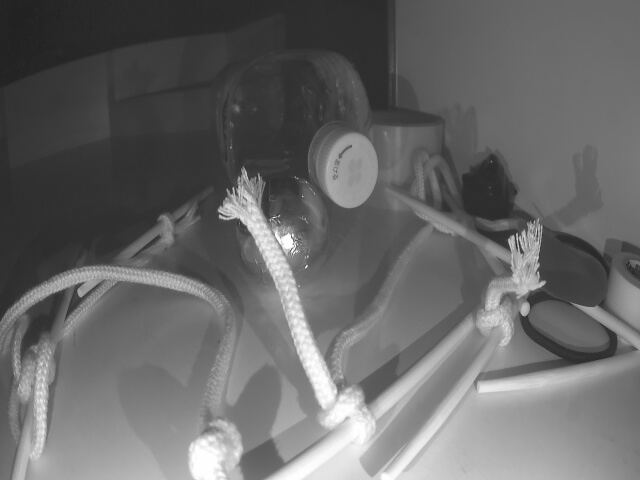Dead: (461, 154, 515, 222)
Live: (237, 174, 325, 280)
Point: (113, 78, 223, 141)
